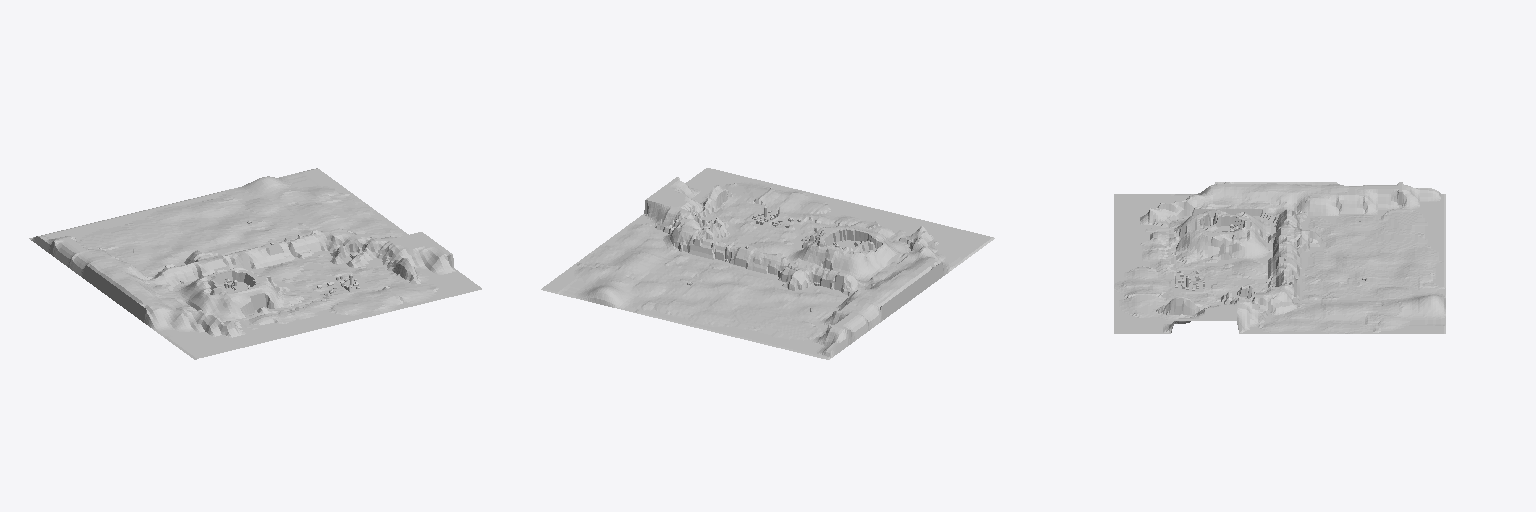
The model's file is OutB1.Odm.obj.
The picture shows the model from 3 angles: view 1: azimuth 30°, elevation 25°; view 2: azimuth 150°, elevation 25°; view 3: azimuth 270°, elevation 25°; orthographic projection.
Parts seen in each view (by area): view 1: _Ground_; view 2: _Ground_; view 3: _Ground_.
Boxes of the visible parts, x1=… form: _Ground_: x1=29, y1=168, x2=481, y2=359; _Ground_: x1=541, y1=168, x2=994, y2=359; _Ground_: x1=1114, y1=182, x2=1445, y2=333.
Bounding box in the file's own units: 65024 × 3552 × 65024.